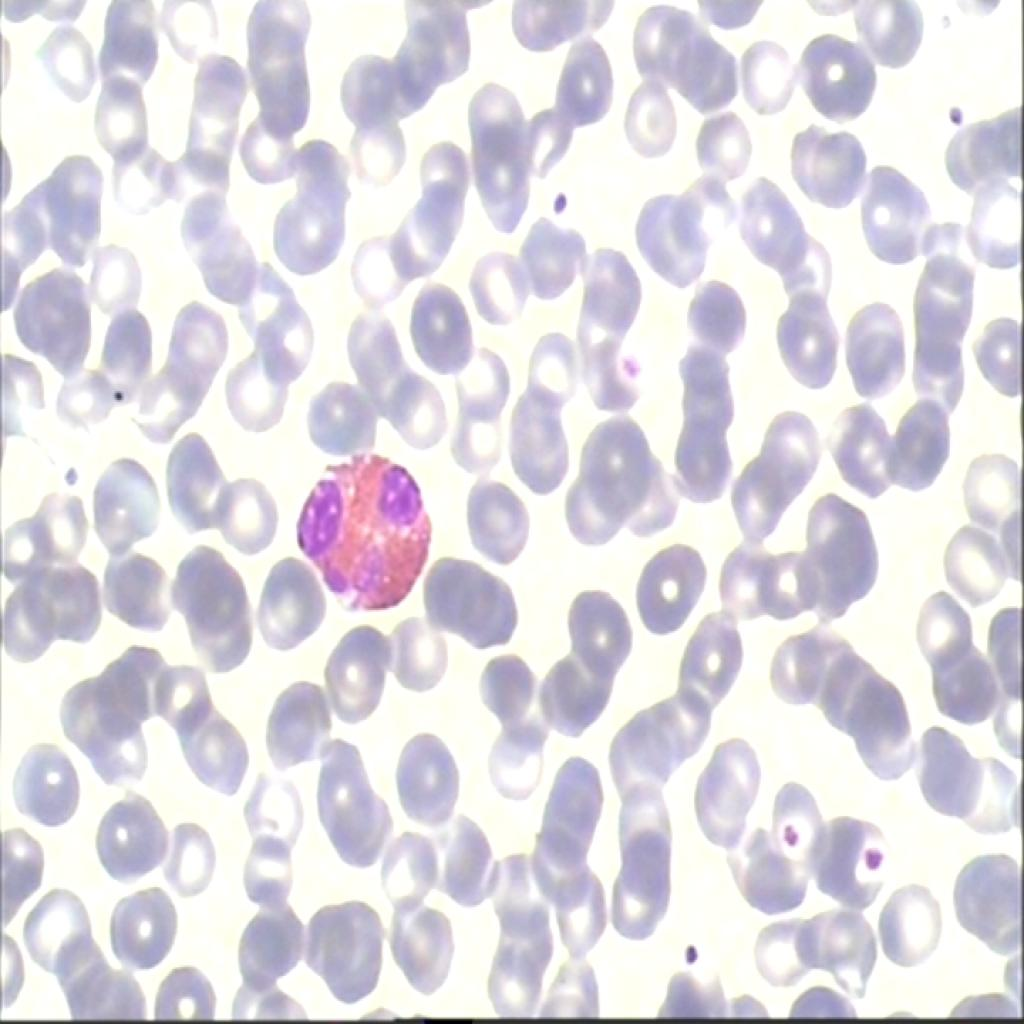Eosinofil: (279, 441, 445, 619)
Platelet: (543, 169, 582, 242), (932, 94, 977, 142), (48, 454, 88, 502), (766, 807, 796, 857), (680, 930, 711, 974), (860, 839, 889, 878)
